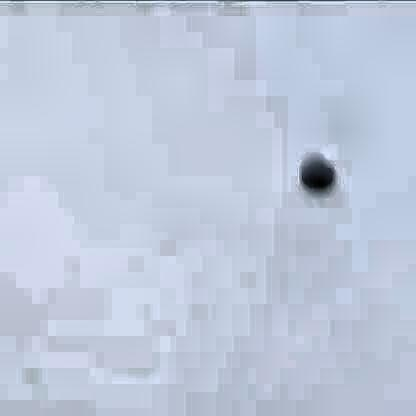golfball: (297, 147, 330, 189)
